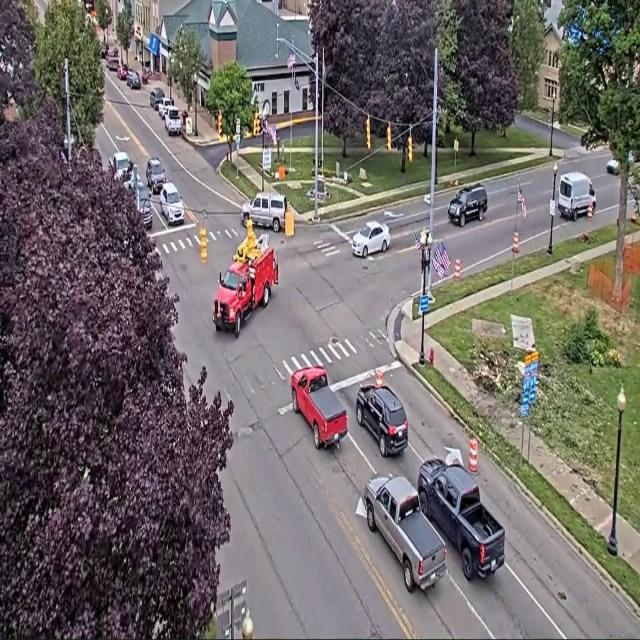car: (356, 384, 408, 456), (241, 192, 287, 232), (448, 184, 487, 227), (352, 222, 390, 257), (126, 178, 152, 229), (160, 182, 184, 226), (146, 158, 165, 193), (111, 151, 131, 180), (149, 87, 165, 111), (158, 96, 173, 119), (127, 71, 141, 88), (107, 52, 119, 71), (606, 158, 619, 175), (606, 158, 618, 175), (117, 64, 128, 80), (100, 42, 108, 59)
traffic signal: (386, 124, 392, 151), (253, 112, 260, 135), (366, 116, 370, 149), (217, 112, 222, 135), (408, 133, 412, 161), (548, 107, 553, 125)
truck: (417, 458, 505, 581), (363, 476, 445, 591), (213, 224, 278, 337), (291, 367, 347, 448), (558, 172, 596, 221), (165, 106, 181, 135)
